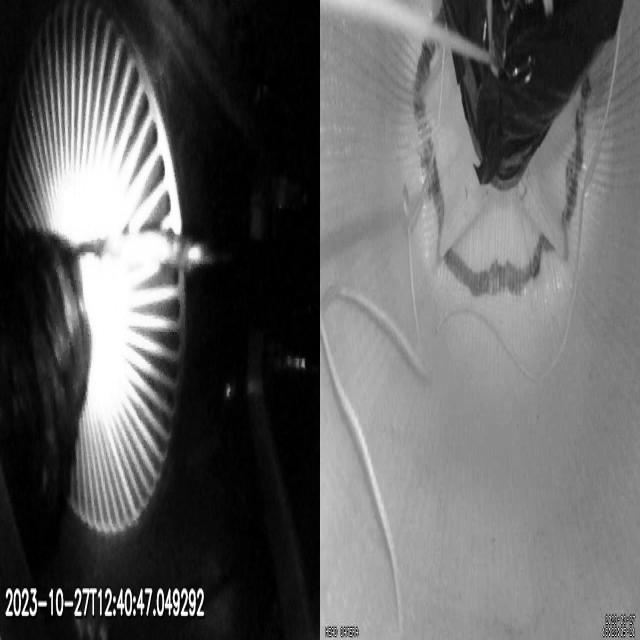red-circle: (412, 0, 590, 299)
